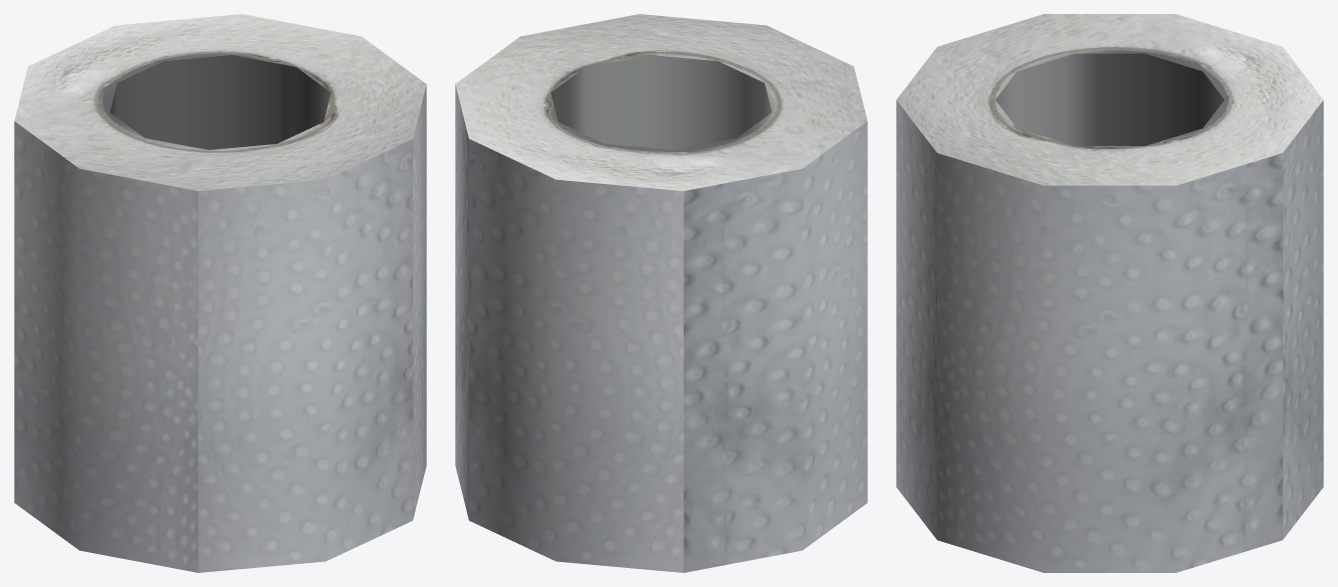
File: TOILET PAPER.fbx
The picture shows the model from 3 angles, left to right: view 1: azimuth 30°, elevation 25°; view 2: azimuth 150°, elevation 25°; view 3: azimuth 270°, elevation 25°; orthographic projection.
Visible parts, largest first — view 1: Cylinder; view 2: Cylinder; view 3: Cylinder.
Part boxes in pixels (x1,y1,x2,y2): Cylinder: (14,14,426,572); Cylinder: (455,14,867,572); Cylinder: (896,14,1323,572).
Size of the model in its own units: 190 by 200 by 200.
